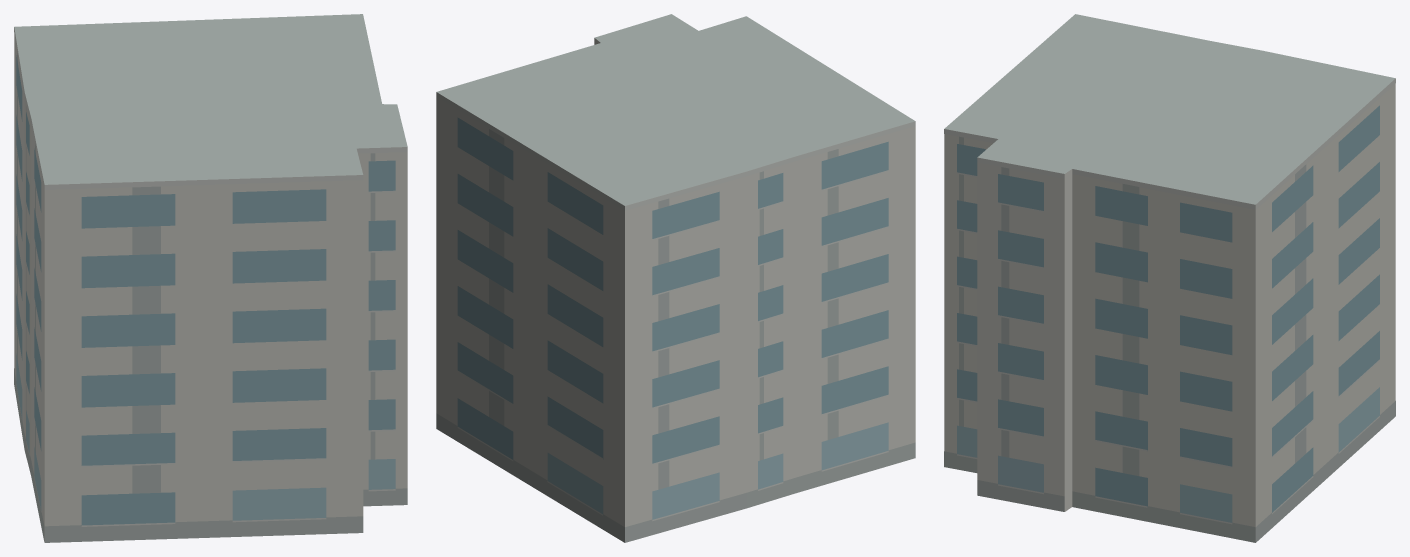
The model's file is survey-upis-32478920.glb.
3 views of the same model, side by side, from view 1: azimuth 30°, elevation 25°; view 2: azimuth 150°, elevation 25°; view 3: azimuth 270°, elevation 25° (orthographic). The views are drawn at different scales.
Parts seen in each view (by area): view 1: survey-upis-32478920.tmp; view 2: survey-upis-32478920.tmp; view 3: survey-upis-32478920.tmp.
Boxes of the visible parts, x1,y1,x2,y2 form: survey-upis-32478920.tmp: (14,14,407,542); survey-upis-32478920.tmp: (436,14,915,542); survey-upis-32478920.tmp: (944,14,1395,542).
Bounding box in the file's own units: 20.1 × 16.6 × 20.11.
